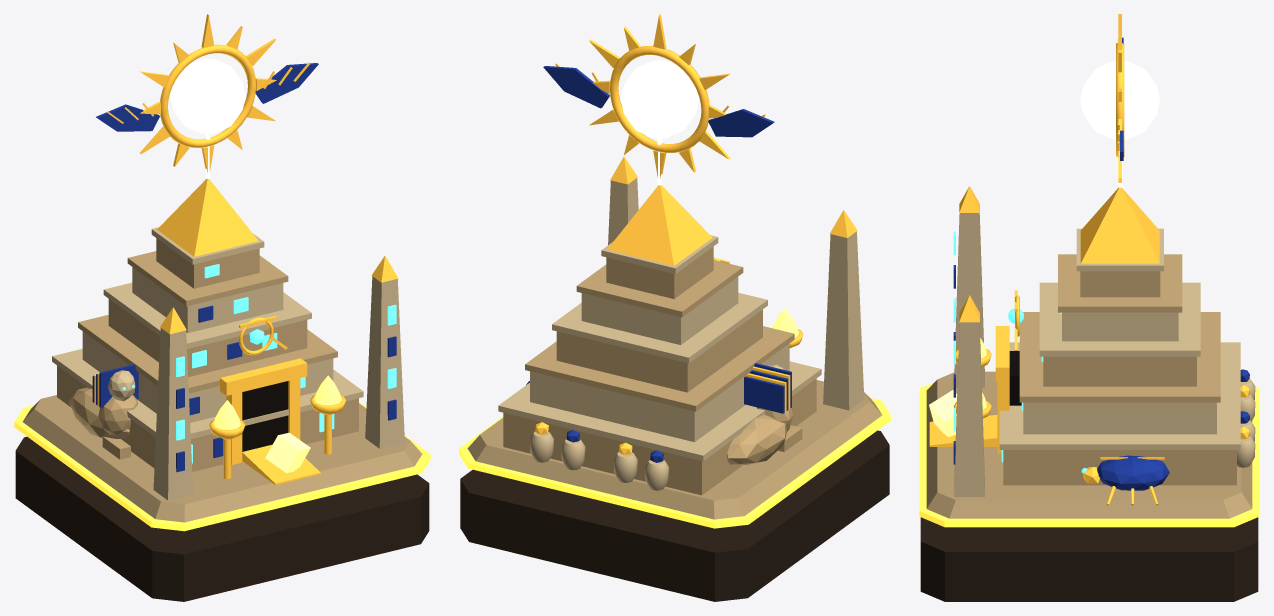
File: SunPyramidMine_Roblox.fbx
3 renders of one model, left to right at view 1: azimuth 30°, elevation 25°; view 2: azimuth 150°, elevation 25°; view 3: azimuth 270°, elevation 25°, orthographic. The views are drawn at different scales.
Visible parts, largest first — view 1: DarkStone, PaleSandstone, Sandstone, Gold, SandMarble, Lapis, GoldTrim, SunCore, Black, TurquoiseGlow, SunstoneOre, BrazierFlame; view 2: PaleSandstone, DarkStone, Sandstone, SandMarble, Gold, GoldTrim, SunCore, Lapis; view 3: PaleSandstone, DarkStone, Sandstone, SandMarble, Gold, GoldTrim, SunCore, Lapis, SunstoneOre, Black, TurquoiseGlow.
Boxes of the visible parts, x1,y1,x2,y2 form: DarkStone: (15,436,429,601); PaleSandstone: (52,227,404,500); Sandstone: (57,238,358,471); Gold: (94,14,398,484); SandMarble: (23,395,422,522); Lapis: (92,63,396,472); GoldTrim: (14,402,430,531); SunCore: (170,58,245,178); Black: (242,381,288,451); TurquoiseGlow: (122,264,396,463); SunstoneOre: (265,432,310,473); BrazierFlame: (213,375,341,429); PaleSandstone: (498,178,864,490); DarkStone: (460,430,889,601); Sandstone: (503,246,816,495); SandMarble: (467,380,881,519); Gold: (535,14,857,455); GoldTrim: (459,398,890,528); SunCore: (620,60,698,185); Lapis: (526,66,791,462); PaleSandstone: (954,213,1255,496); DarkStone: (920,517,1258,601); Sandstone: (1003,254,1236,485); SandMarble: (926,371,1252,518); Gold: (929,14,1249,505); GoldTrim: (919,382,1259,527); SunCore: (1080,61,1159,187); Lapis: (953,37,1249,490); SunstoneOre: (929,390,957,436); Black: (1009,351,1021,405); TurquoiseGlow: (953,231,1087,473).
Size of the model in its own units: 1108 by 1855 by 1108.
